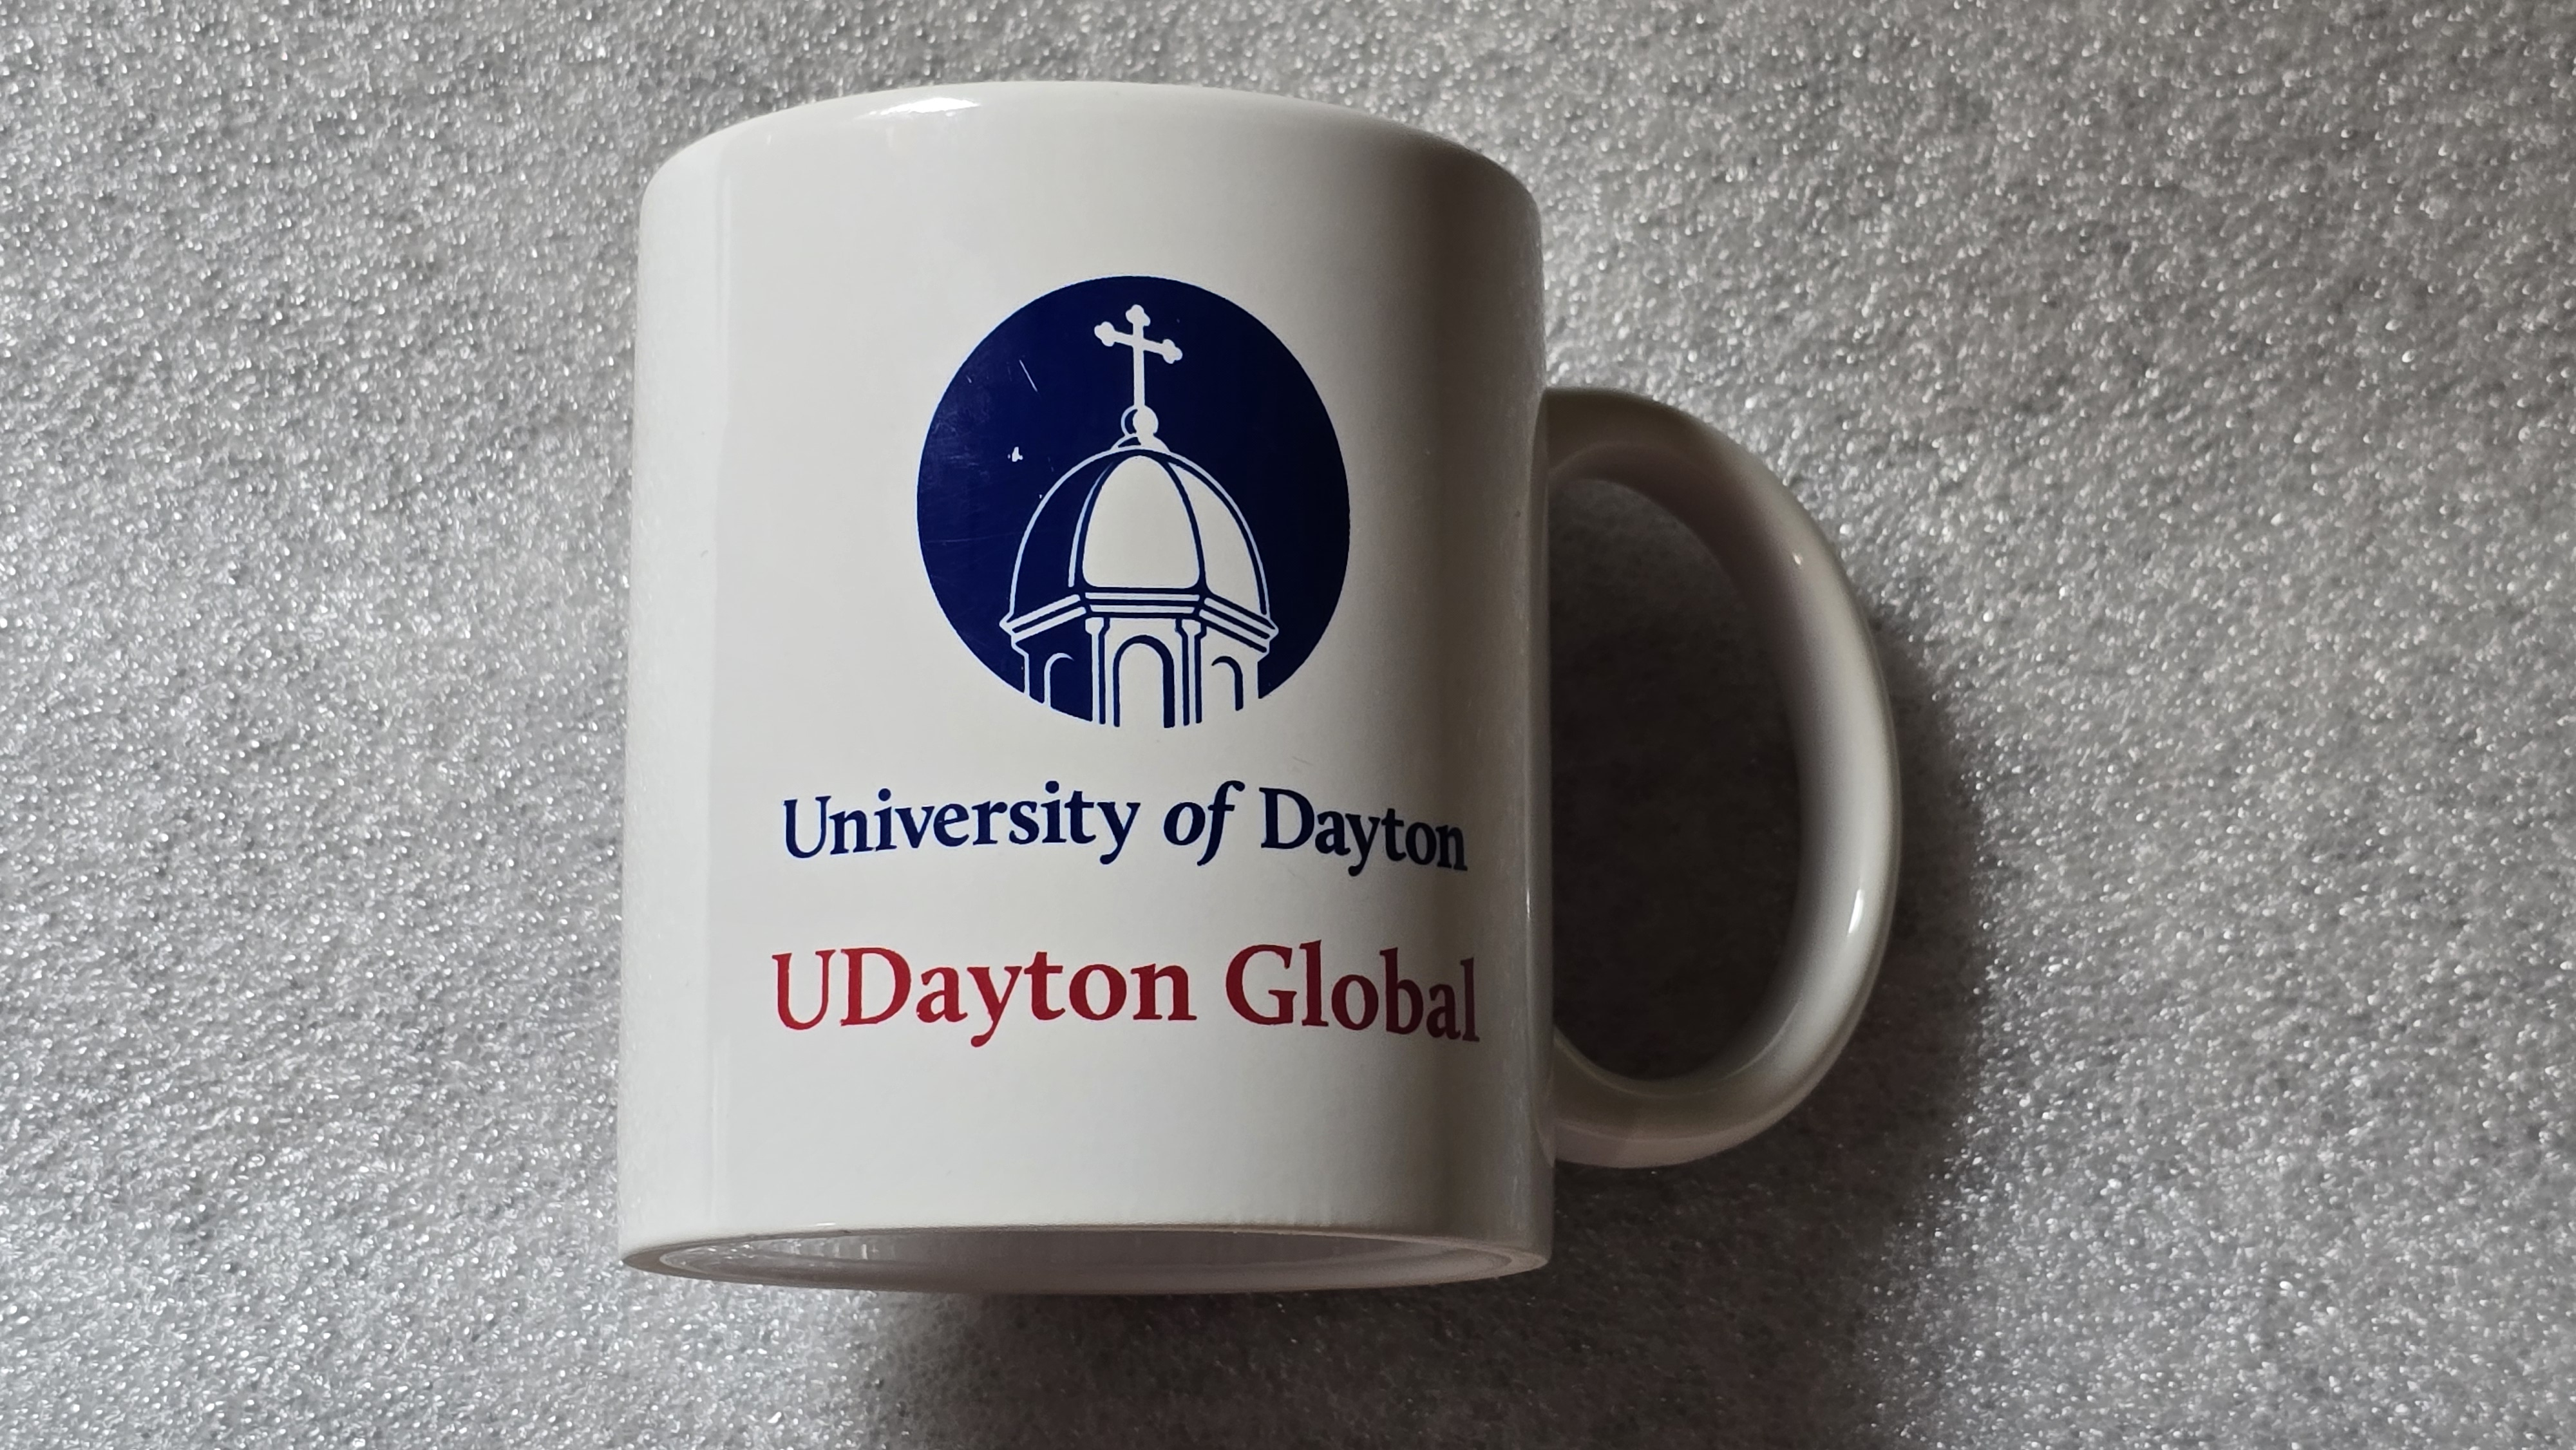mug: (602, 69, 1951, 1300)
